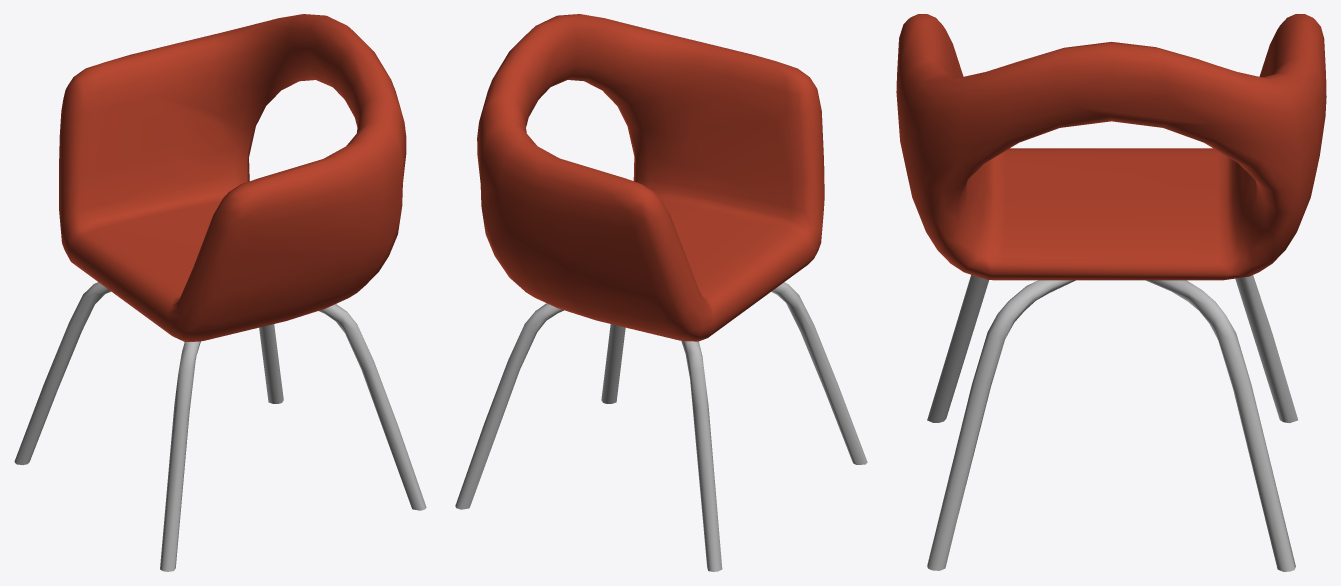
The model's file is chair_05_red.fbx.
3 views of the same model, side by side, from view 1: azimuth 30°, elevation 25°; view 2: azimuth 150°, elevation 25°; view 3: azimuth 270°, elevation 25° (orthographic). The views are drawn at different scales.
Visible parts, largest first — view 1: chair_05_red; view 2: chair_05_red; view 3: chair_05_red.
Boxes of the visible parts, <box> form: chair_05_red: <box>14,14,426,571</box>; chair_05_red: <box>455,14,867,571</box>; chair_05_red: <box>896,14,1326,571</box>.
Bounding box in the file's own units: 53.32 × 81.65 × 61.21.
Materials: 2 (2 with a texture image).
